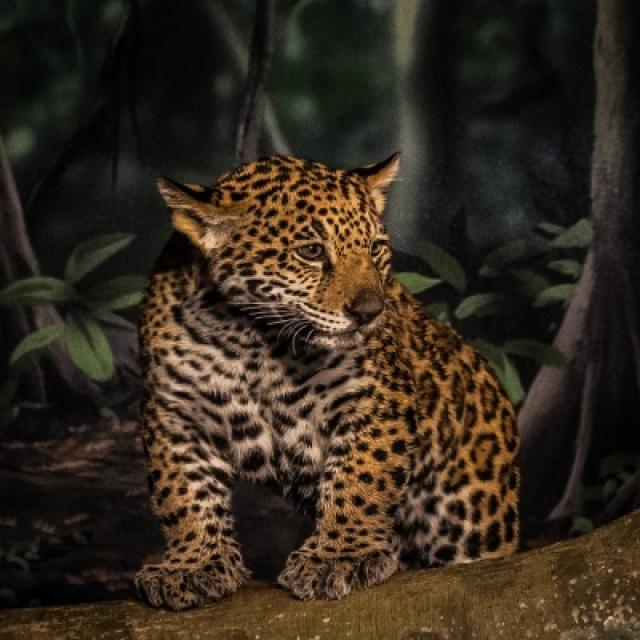Jaguar: (133, 154, 522, 616)
